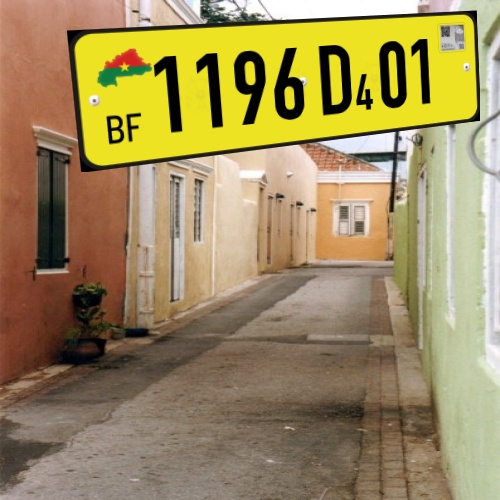plate: (54, 7, 493, 177)
